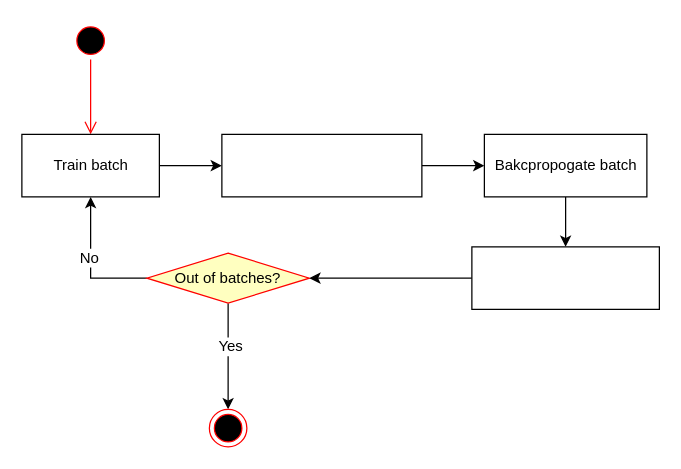
The diagram is 681 pixels wide and 469 high, and some of its shapes have lost their labels. Here are the shapes that lost their labels. From the top down, the box of each, then its label:
(221, 133, 422, 197): Calculate error for each output neuron
(471, 246, 659, 309): Apply to neural network
